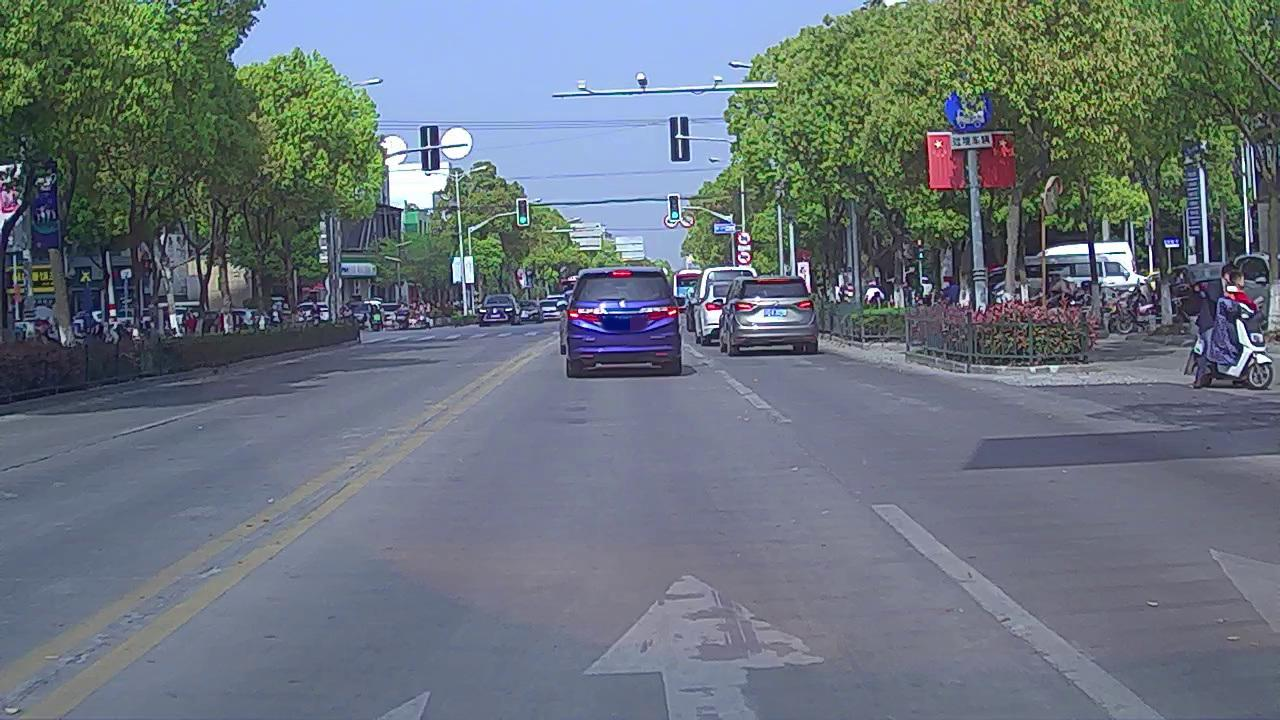traffic_light: (669, 196, 679, 220), (519, 200, 528, 224)
